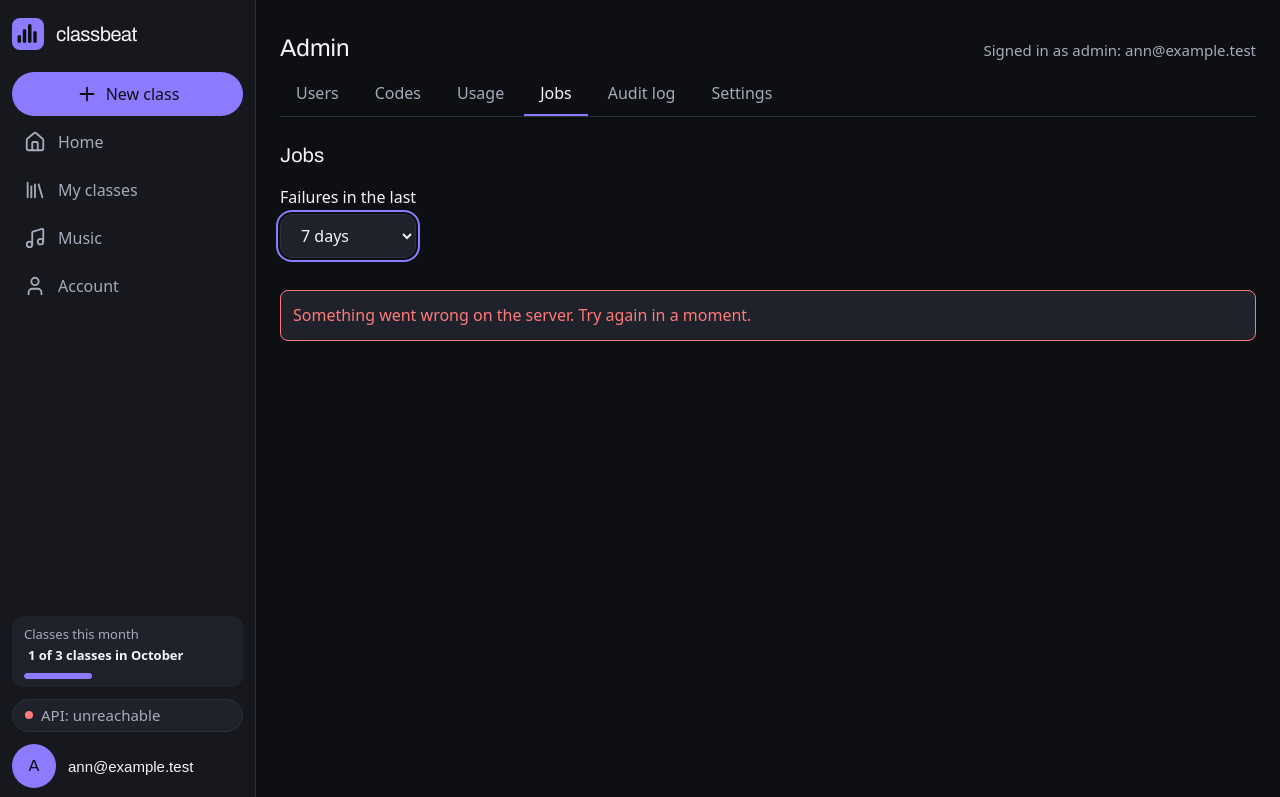
Test: review follow-ups of #305 › keeps the Jobs window select when a load fails, and keeps its focus while loading
Expected: the message "Something went wrong on the server. Try again in a moment." is shown, [280,290,1256,341]
Select "30 days" in the dropdown labelled "Failures in the last" at {"x": 348, "y": 236}, box [280,214,416,258]
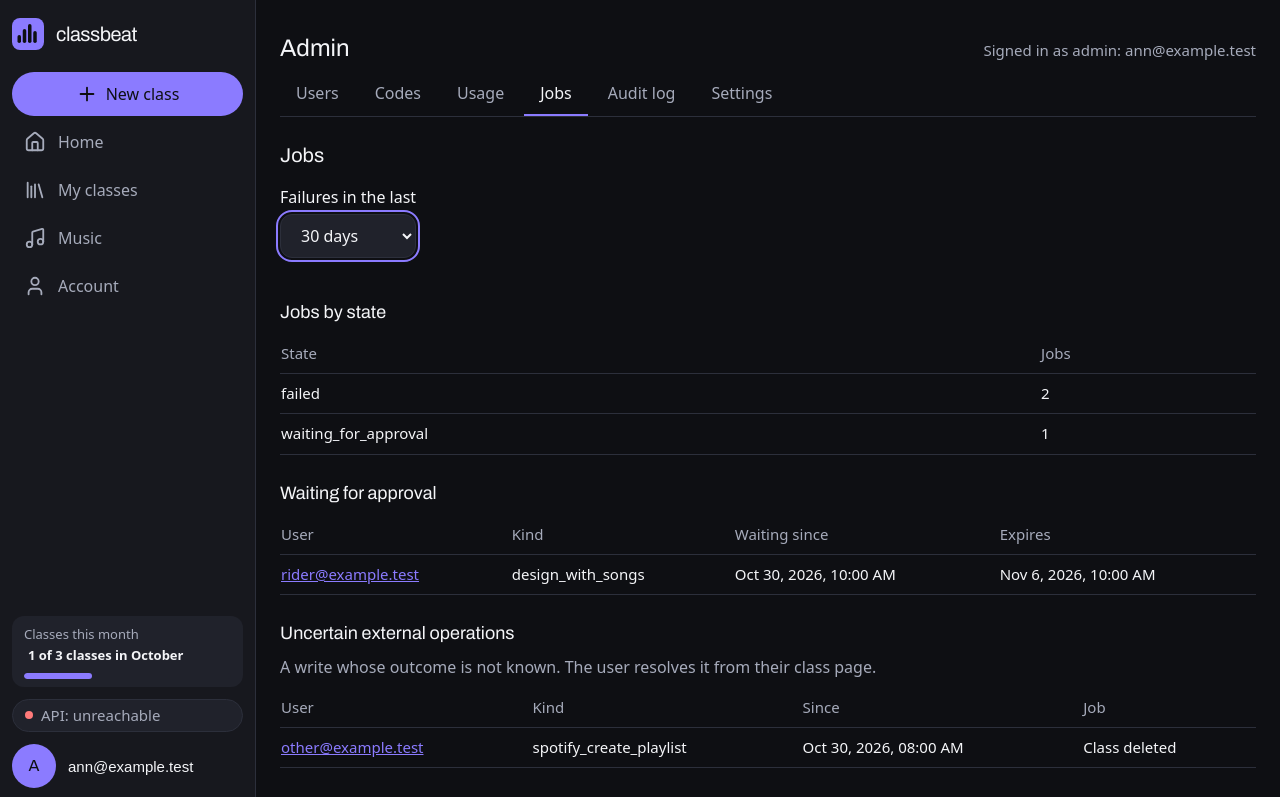
Expected: the table named "Jobs by state" is shown, [280,334,1256,454]
